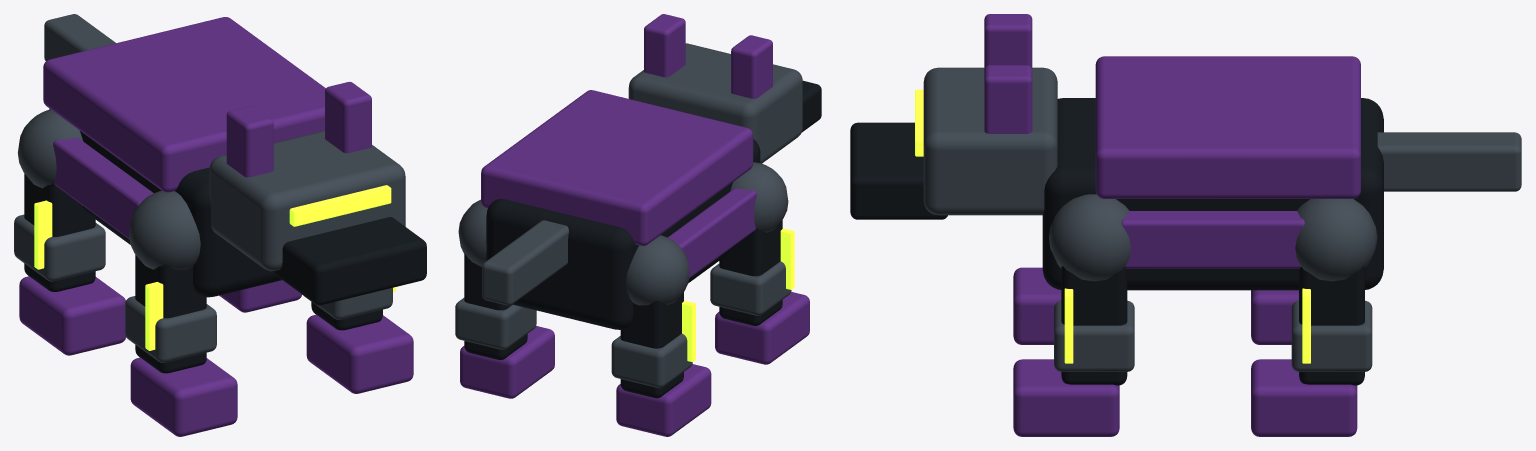
Rendered from hound_l03.glb.
3 renders of one model, left to right at view 1: azimuth 30°, elevation 25°; view 2: azimuth 150°, elevation 25°; view 3: azimuth 270°, elevation 25°, orthographic. The views are drawn at different scales.
Parts seen in each view (by area): view 1: dorsal_plating, armoured_paw (×4), hound_head, muzzle, reinforced_knee (×3), hip_joint (×2), servo_leg (×3), ear_array (×2), hound_core, flank_plate, tail, servo_light (×2) (+1 smaller); view 2: dorsal_plating, armoured_paw (×3), hound_core, hound_head, reinforced_knee (×3), servo_leg (×3), hip_joint (×3), tail, ear_array (×2), flank_plate, servo_light (×2), muzzle; view 3: dorsal_plating, armoured_paw (×4), hound_head, hound_core, hip_joint (×2), flank_plate, tail, servo_leg (×2), reinforced_knee (×2), muzzle, ear_array (×2), servo_light (×2).
Part boxes in pixels (x1,y1,x2,y2): dorsal_plating: (43, 17, 325, 192); armoured_paw (×4): (19, 276, 413, 436); hound_head: (209, 130, 405, 271); muzzle: (273, 217, 426, 305); reinforced_knee (×3): (14, 214, 392, 362); hip_joint (×2): (18, 109, 200, 269); servo_leg (×3): (24, 173, 382, 373); ear_array (×2): (226, 82, 371, 177); hound_core: (49, 108, 281, 297); flank_plate: (53, 137, 153, 239); tail: (44, 14, 115, 60); servo_light (×2): (34, 200, 163, 350); dorsal_plating: (481, 90, 753, 245); armoured_paw (×3): (460, 292, 809, 436); hound_core: (486, 139, 760, 329); hound_head: (628, 43, 802, 163); reinforced_knee (×3): (455, 261, 791, 388); servo_leg (×3): (464, 220, 782, 398); hip_joint (×3): (458, 162, 788, 305); tail: (482, 220, 568, 305); ear_array (×2): (644, 14, 772, 98); flank_plate: (667, 188, 756, 278); servo_light (×2): (682, 228, 794, 362); muzzle: (802, 80, 821, 132); dorsal_plating: (1095, 56, 1360, 198); armoured_paw (×4): (1013, 267, 1357, 436); hound_head: (923, 67, 1057, 215); hound_core: (1042, 98, 1383, 290); hip_joint (×2): (1049, 194, 1377, 281); flank_plate: (1121, 211, 1304, 268); tail: (1377, 132, 1521, 191); servo_leg (×2): (1061, 266, 1364, 385); reinforced_knee (×2): (1054, 300, 1372, 371); muzzle: (850, 122, 947, 219); ear_array (×2): (984, 14, 1032, 133); servo_light (×2): (1064, 288, 1310, 363).
Bounding box in the file's own units: 1.22 × 1.45 × 2.66.
